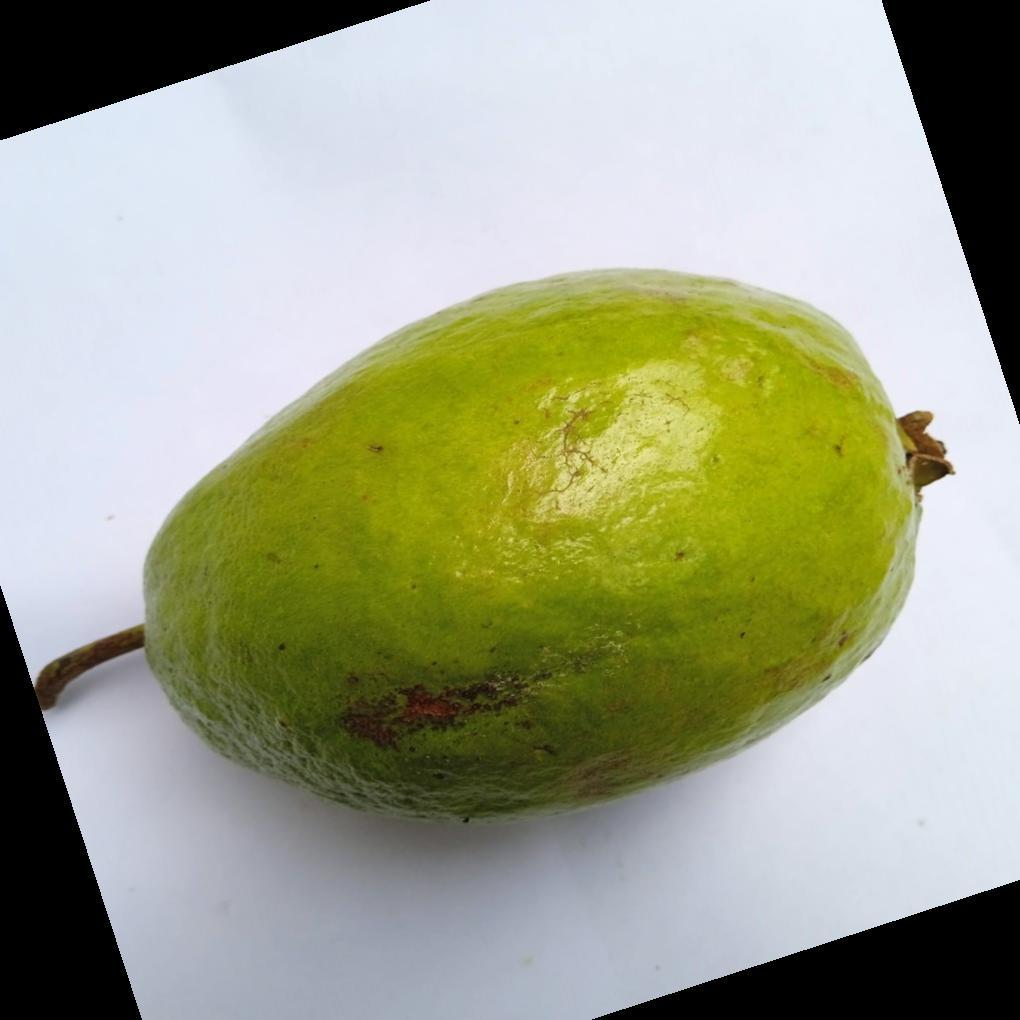FreshGuava: (140, 269, 923, 829)
